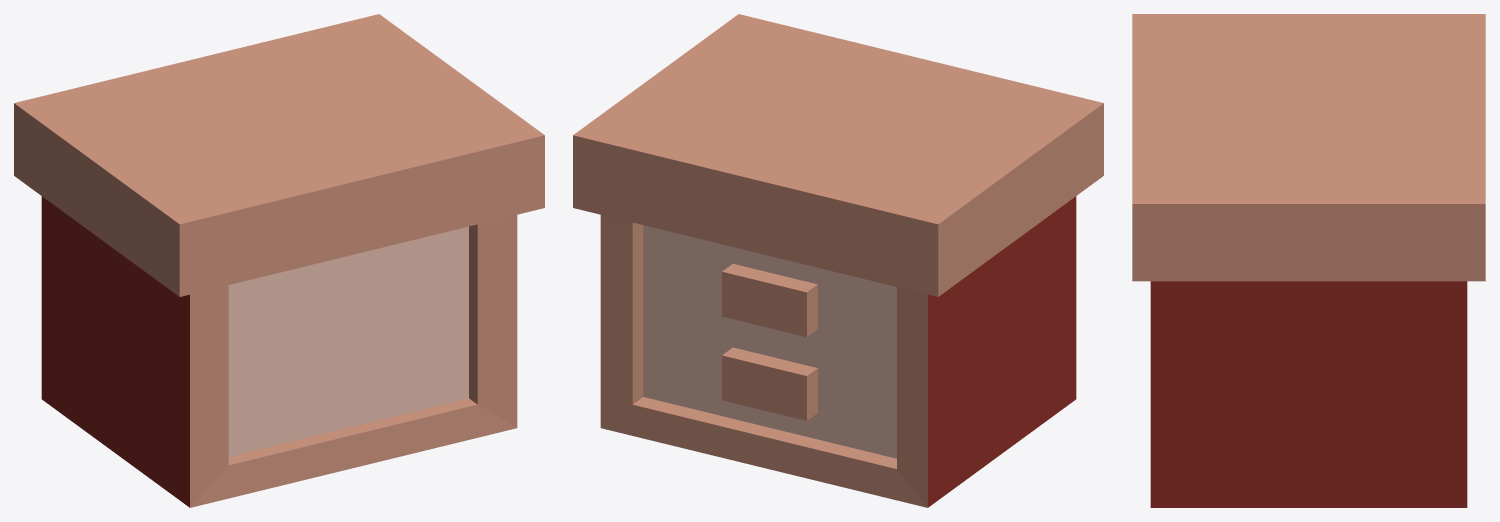
The model's file is Counter.fbx.
The picture shows the model from 3 angles, left to right: view 1: azimuth 30°, elevation 25°; view 2: azimuth 150°, elevation 25°; view 3: azimuth 270°, elevation 25°; orthographic projection. The views are drawn at different scales.
Parts seen in each view (by area): view 1: Counter; view 2: Counter; view 3: Counter.
Part boxes in pixels (x1,y1,x2,y2): Counter: (14, 14, 544, 507); Counter: (573, 14, 1103, 507); Counter: (1132, 14, 1485, 507).
Bounding box in the file's own units: 84.32 × 64.97 × 66.27.
